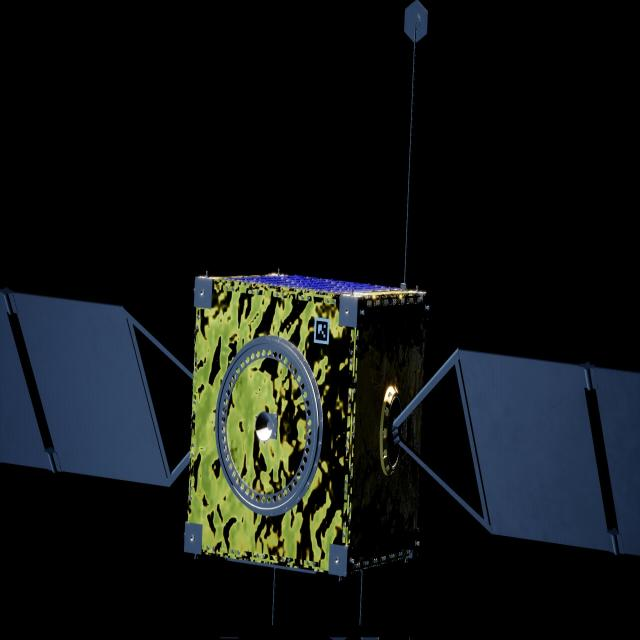medium_debris: (0, 276, 640, 573)
